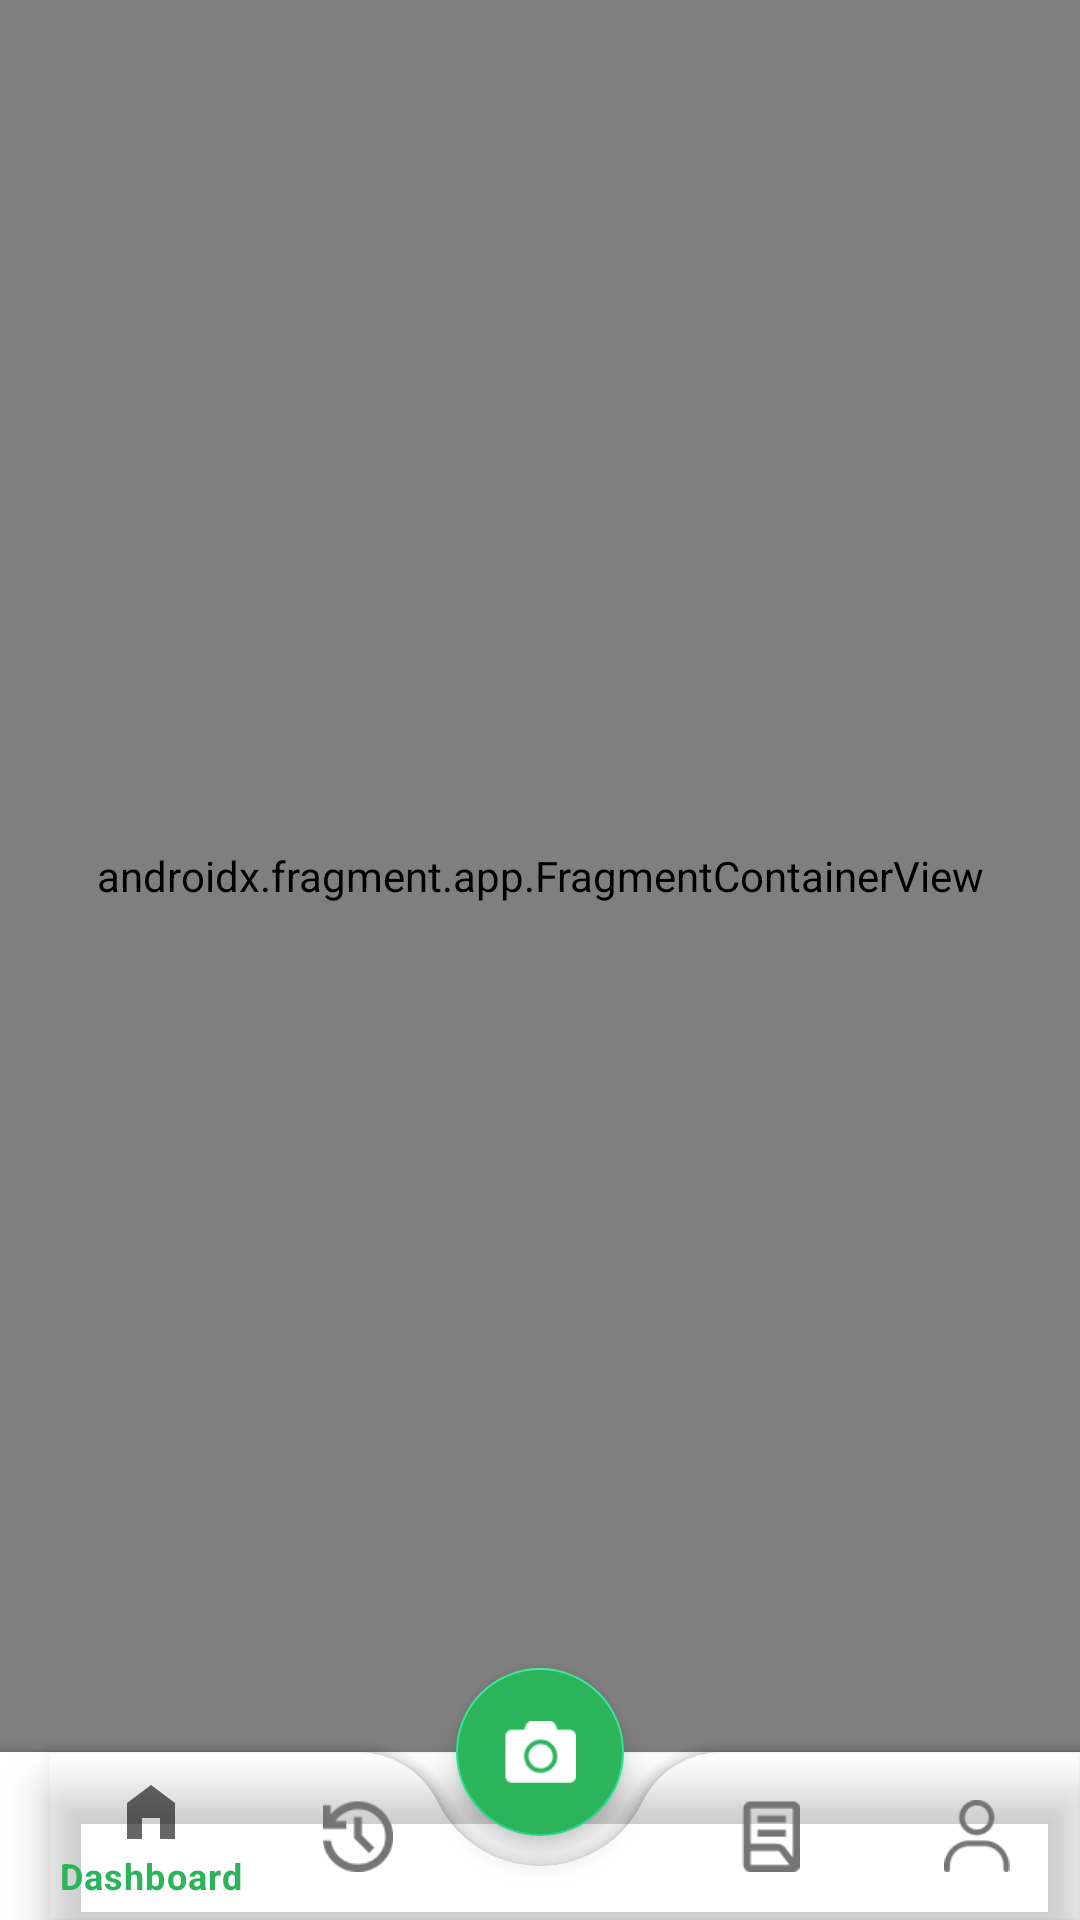

Point at icon controls on the screen. Image size 1080×1920, points as (x=x, y=y).
camera: (x=540, y=1752)
